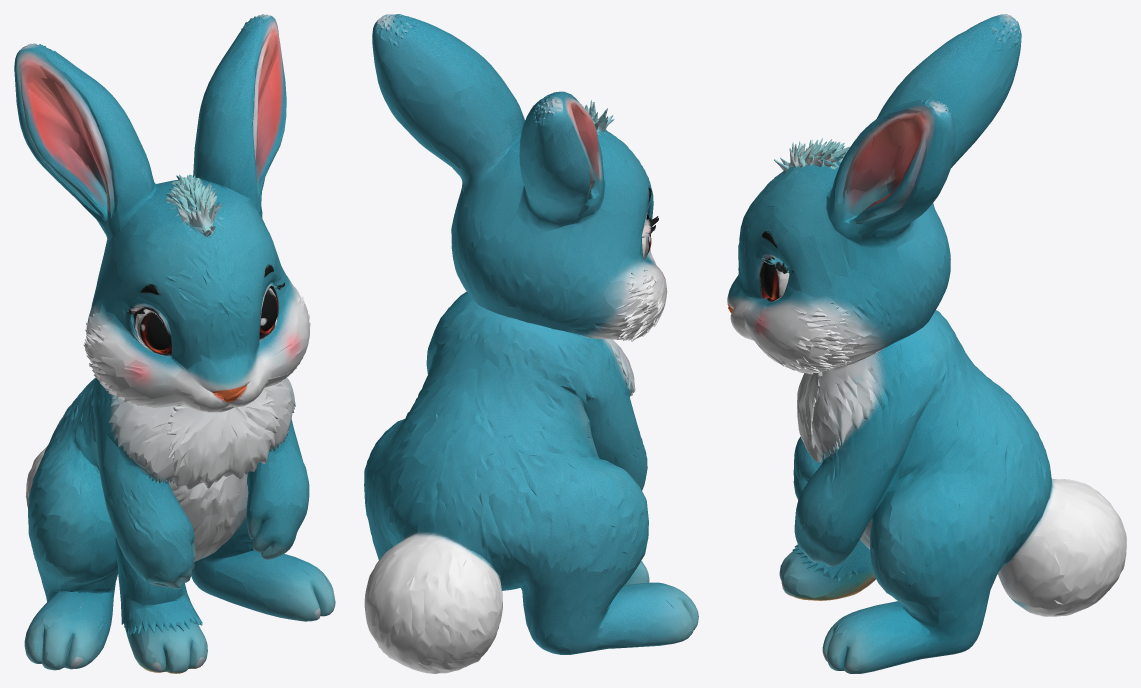
Rendered from meshy-1795561929377.glb.
3 views of the same model, side by side, from view 1: azimuth 30°, elevation 25°; view 2: azimuth 150°, elevation 25°; view 3: azimuth 270°, elevation 25° (orthographic). The views are drawn at different scales.
Bounding box in the file's own units: 1.03 × 1.9 × 1.23.
Materials: 1 (1 with a texture image).
